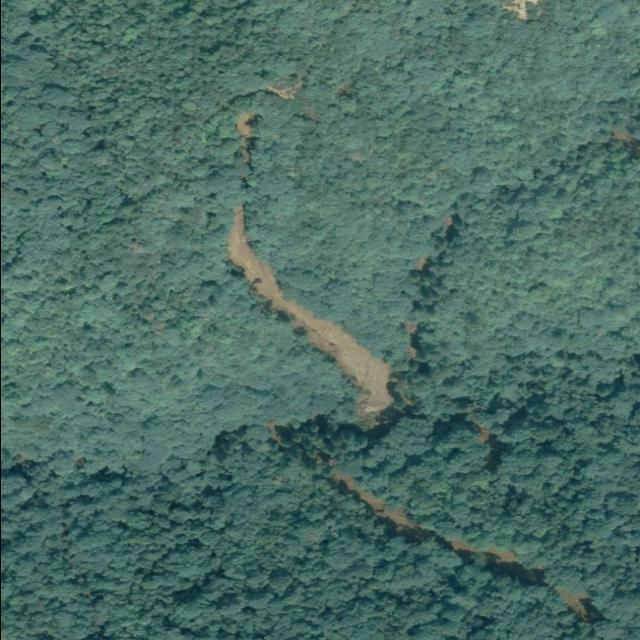landslide: (227, 208, 392, 427), (331, 470, 421, 530), (449, 542, 515, 564), (576, 606, 587, 618)
